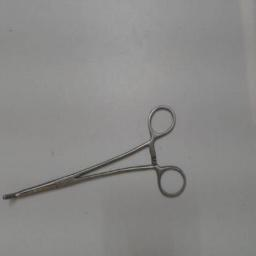Lahey Forceps: (1, 101, 191, 205)
